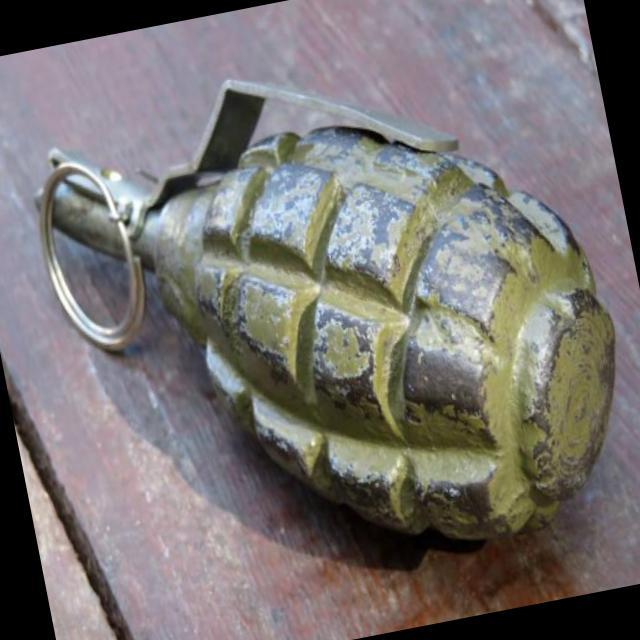grenade: (12, 17, 640, 617)
